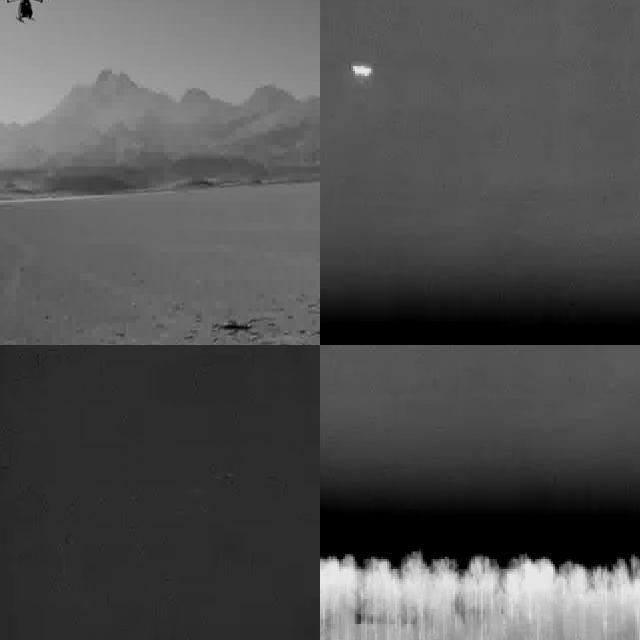0: (315, 610, 320, 637)
1: (326, 54, 394, 96)
drone: (0, 0, 51, 25)
